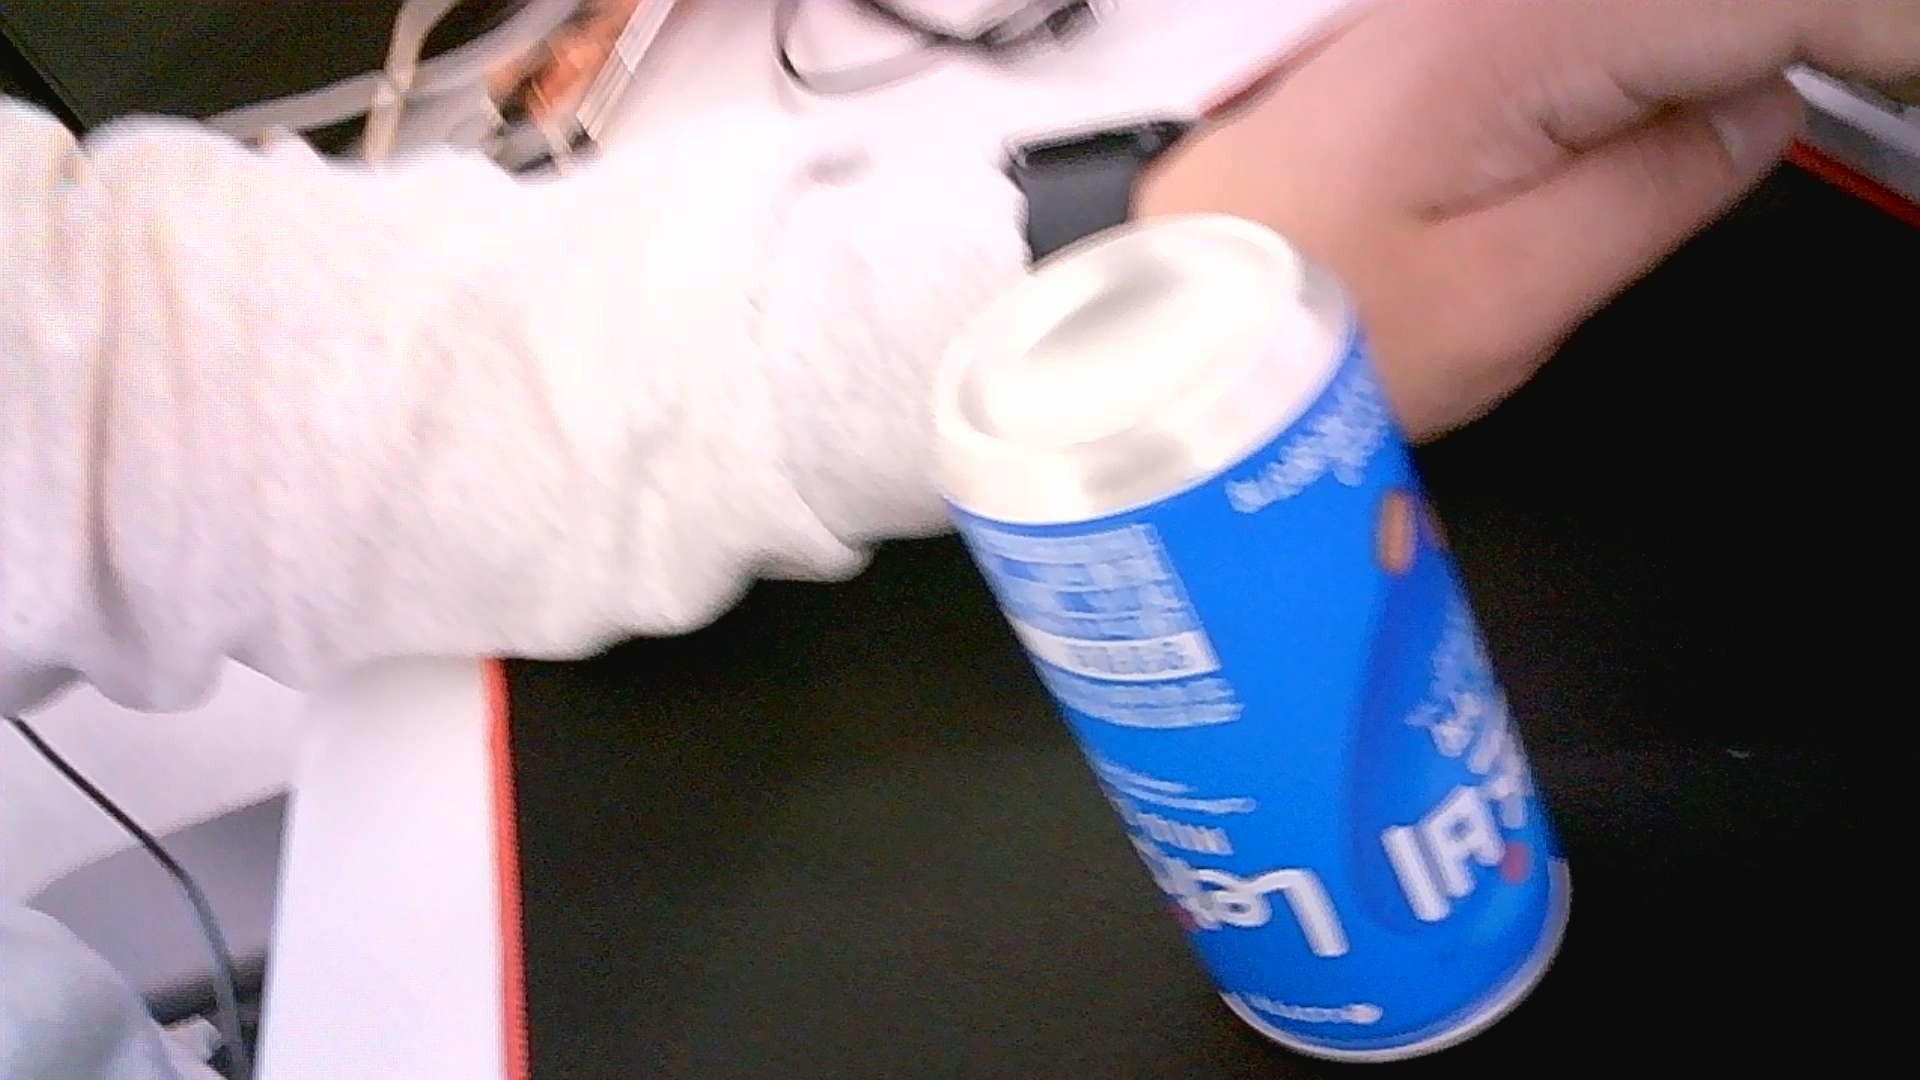letsbe: (928, 212, 1573, 1063)
